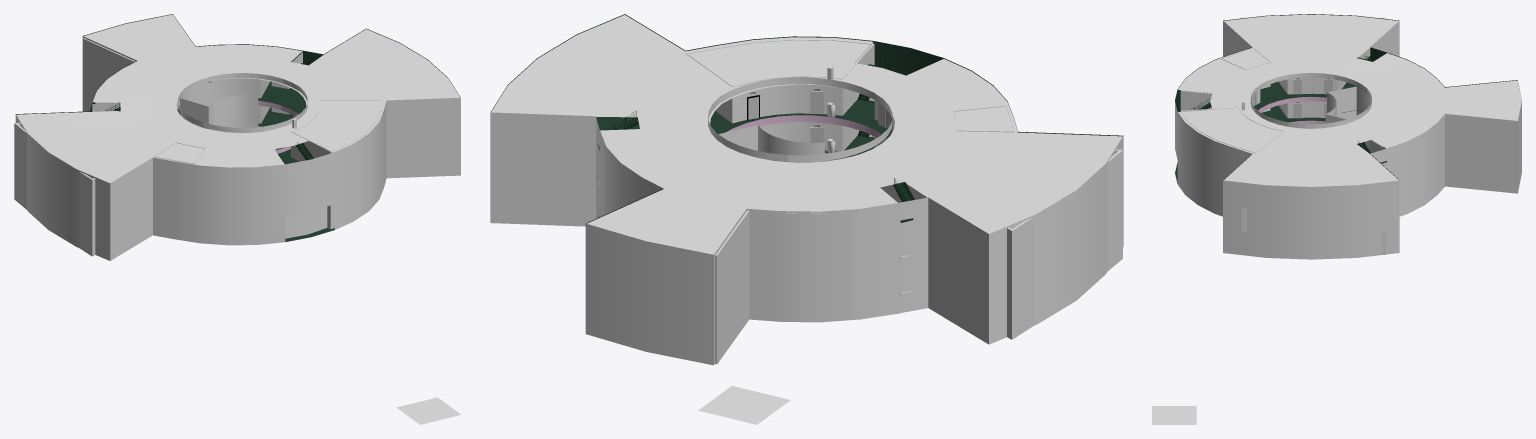
File: main_interior LA sh.fbx
3 renders of one model, left to right at view 1: azimuth 30°, elevation 25°; view 2: azimuth 150°, elevation 25°; view 3: azimuth 270°, elevation 25°, orthographic. The views are drawn at different scales.
Visible parts, largest first — view 1: Circle.042, Circle.014, Circle.041, Circle.046, Circle.037, Circle, Plane.005, Circle.027, Circle.013, Circle.036, Circle.034, Circle.019 (+2 smaller); view 2: Circle.042, Circle.014, Circle.034, Circle.037, Circle.020, Circle.002, Circle.046, Circle, Plane.005, Circle.036, Circle.027, Circle.041 (+7 smaller); view 3: Circle.042, Circle.014, Circle.037, Circle.020, Circle.002, Circle.046, Circle.041, Plane.005, Circle, Circle.036, Circle.027, Circle.035 (+5 smaller).
Boxes of the visible parts, left/top/right/bottom form: Circle.042: left=16, top=14, right=459, bottom=182; Circle.014: left=15, top=36, right=460, bottom=260; Circle.041: left=180, top=79, right=258, bottom=129; Circle.046: left=178, top=73, right=307, bottom=132; Circle.037: left=82, top=38, right=270, bottom=109; Circle: left=15, top=14, right=460, bottom=241; Plane.005: left=396, top=397, right=461, bottom=424; Circle.027: left=177, top=81, right=329, bottom=164; Circle.013: left=285, top=206, right=327, bottom=238; Circle.036: left=14, top=122, right=95, bottom=205; Circle.034: left=291, top=100, right=382, bottom=161; Circle.019: left=14, top=149, right=95, bottom=230; Circle.042: left=491, top=15, right=1122, bottom=254; Circle.014: left=490, top=112, right=1123, bottom=365; Circle.034: left=686, top=38, right=874, bottom=123; Circle.037: left=715, top=210, right=830, bottom=291; Circle.020: left=715, top=247, right=830, bottom=327; Circle.002: left=715, top=284, right=830, bottom=364; Circle.046: left=708, top=77, right=892, bottom=162; Circle: left=491, top=14, right=1122, bottom=223; Plane.005: left=698, top=386, right=790, bottom=424; Circle.036: left=881, top=149, right=1122, bottom=266; Circle.027: left=596, top=99, right=892, bottom=187; Circle.041: left=718, top=125, right=825, bottom=162; Circle.042: left=1178, top=14, right=1521, bottom=186; Circle.014: left=1175, top=21, right=1521, bottom=259; Circle.037: left=1365, top=94, right=1515, bottom=149; Circle.020: left=1445, top=139, right=1515, bottom=169; Circle.002: left=1445, top=162, right=1515, bottom=193; Circle.046: left=1250, top=73, right=1371, bottom=128; Circle.041: left=1325, top=86, right=1371, bottom=123; Plane.005: left=1152, top=406, right=1196, bottom=424; Circle: left=1175, top=14, right=1520, bottom=183; Circle.036: left=1240, top=17, right=1385, bottom=94; Circle.027: left=1179, top=56, right=1370, bottom=150; Circle.035: left=1180, top=89, right=1260, bottom=110.
Bounding box in the file's own units: 9162 × 6652 × 8280.
